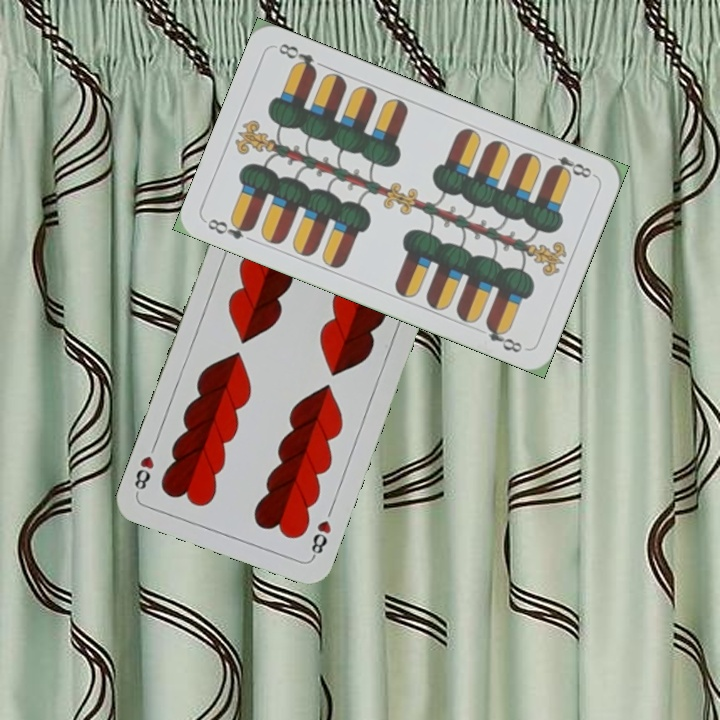E8: (542, 149, 597, 181), (203, 214, 257, 242)
H8: (307, 516, 334, 561)
